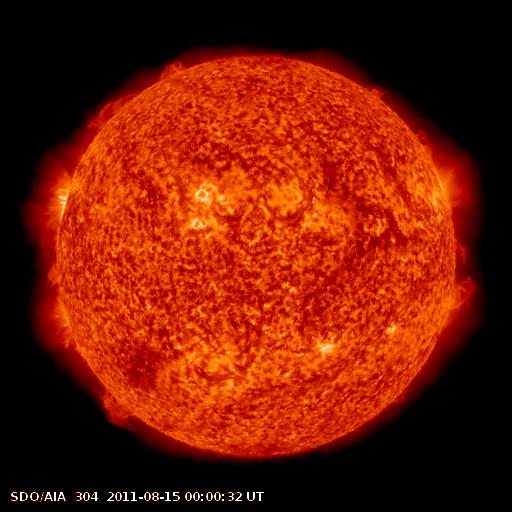prominence: (443, 223, 485, 319), (74, 82, 145, 136), (88, 379, 141, 437), (150, 48, 199, 88), (402, 120, 443, 161), (39, 240, 69, 292), (351, 73, 390, 106)
